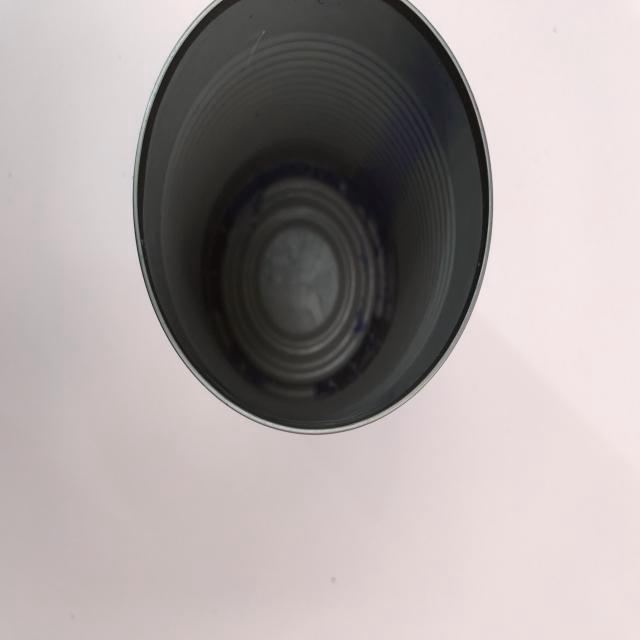metal: (130, 0, 499, 437)
